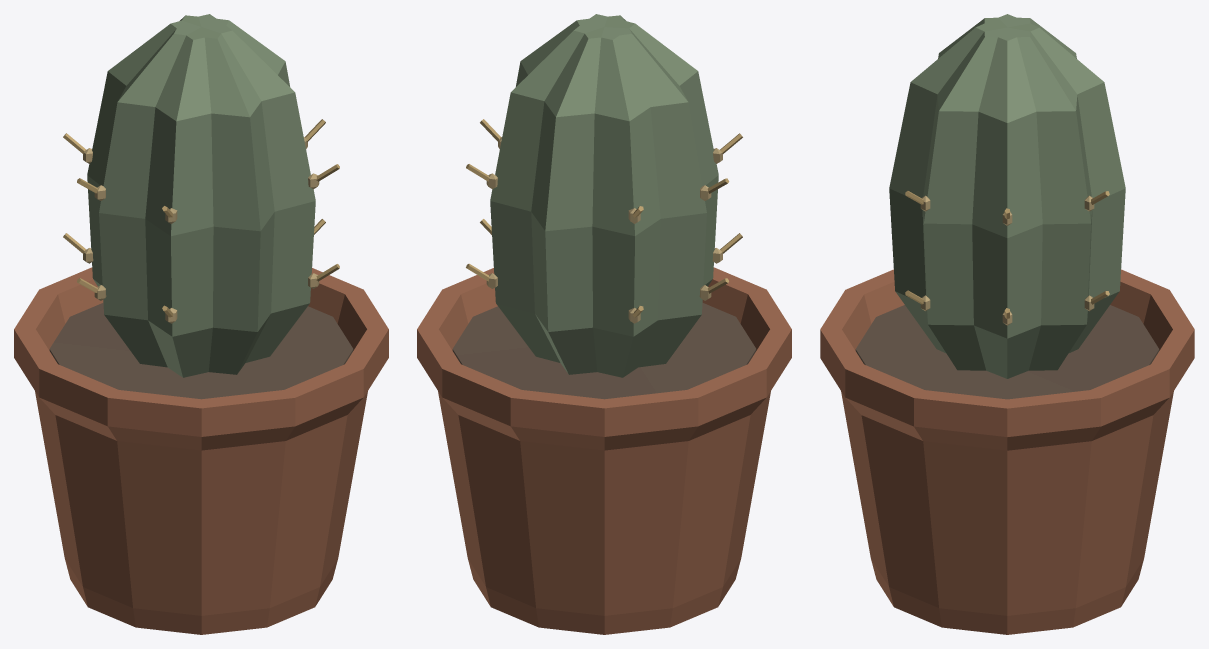
Rendered from new-ornatum.glb.
3 views of the same model, side by side, from view 1: azimuth 30°, elevation 25°; view 2: azimuth 150°, elevation 25°; view 3: azimuth 270°, elevation 25° (orthographic).
Parts seen in each view (by area): view 1: new-ornatum/review-terra-vessel, new-ornatum/ribbed-stem-001, new-ornatum/review-rooted-soil; view 2: new-ornatum/review-terra-vessel, new-ornatum/ribbed-stem-001, new-ornatum/review-rooted-soil; view 3: new-ornatum/review-terra-vessel, new-ornatum/ribbed-stem-001, new-ornatum/review-rooted-soil.
Part boxes in pixels (x1,y1,x2,y2): new-ornatum/review-terra-vessel: [14, 267, 388, 634]; new-ornatum/ribbed-stem-001: [87, 14, 315, 377]; new-ornatum/review-rooted-soil: [49, 302, 353, 399]; new-ornatum/review-terra-vessel: [417, 267, 791, 634]; new-ornatum/ribbed-stem-001: [490, 14, 718, 377]; new-ornatum/review-rooted-soil: [452, 302, 756, 399]; new-ornatum/review-terra-vessel: [820, 269, 1194, 634]; new-ornatum/ribbed-stem-001: [889, 14, 1125, 378]; new-ornatum/review-rooted-soil: [855, 305, 1159, 399].
Size of the model in its own units: 0.19 by 0.309 by 0.19.
Materials: 5 (5 with a texture image).
